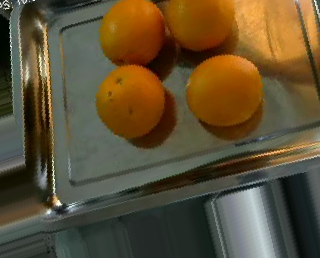Orange: (186, 53, 264, 125), (96, 63, 165, 138), (98, 1, 165, 67), (166, 1, 235, 50)
